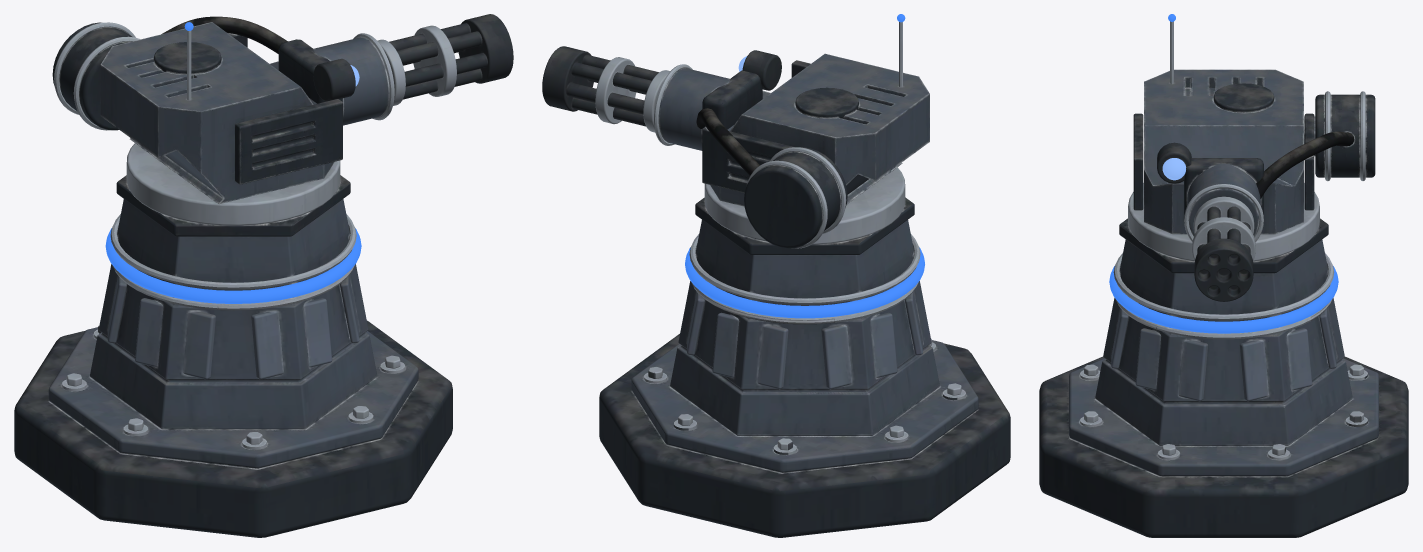
File: vulcan.glb
3 views of the same model, side by side, from view 1: azimuth 30°, elevation 25°; view 2: azimuth 150°, elevation 25°; view 3: azimuth 270°, elevation 25° (orthographic). The views are drawn at different scales.
Parts seen in each view (by area): view 1: Base, Turret, Barrels, Gun; view 2: Base, Turret, Barrels, Gun; view 3: Base, Turret, Barrels, Gun.
Part boxes in pixels (x1,y1,x2,y2): Base: (14,143,452,537); Turret: (52,16,359,203); Barrels: (377,14,513,105); Gun: (278,33,394,125); Base: (599,167,1010,537); Turret: (696,14,929,248); Barrels: (542,46,670,132); Gun: (654,64,762,150); Base: (1039,183,1408,537); Turret: (1133,14,1375,234); Barrels: (1192,196,1255,301); Gun: (1184,158,1263,241).
Bounding box in the file's own units: 5.73 × 5.75 × 4.62.
Materials: 6 (4 with a texture image).
